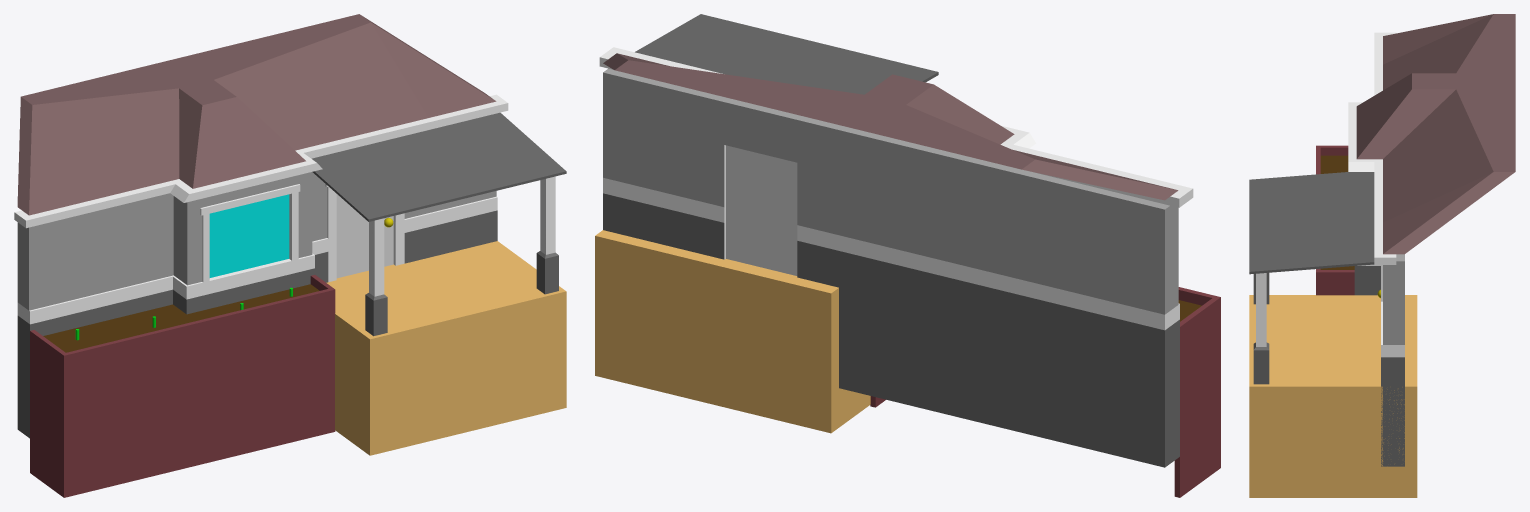
File: houseWIP6.fbx
3 views of the same model, side by side, from view 1: azimuth 30°, elevation 25°; view 2: azimuth 150°, elevation 25°; view 3: azimuth 270°, elevation 25° (orthographic). The views are drawn at different scales.
Parts seen in each view (by area): view 1: Cube, Cube.002, Cube.007, Cube.003, Cube.008, Cube.009, Cube.001, Cube.004, Cube.005, Cube.006; view 2: Cube, Cube.002, Cube.003, Cube.001, Cube.008; view 3: Cube, Cube.002, Cube.003, Cube.005, Cube.006, Cube.009, Cube.008.
Part boxes in pixels (x1,y1,x2,y2): Cube: [14, 14, 508, 438]; Cube.002: [326, 241, 566, 455]; Cube.007: [66, 289, 330, 496]; Cube.003: [312, 112, 566, 221]; Cube.008: [30, 330, 68, 497]; Cube.009: [43, 284, 319, 352]; Cube.001: [336, 194, 393, 278]; Cube.004: [365, 218, 387, 336]; Cube.005: [536, 176, 558, 294]; Cube.006: [310, 275, 335, 432]; Cube: [599, 47, 1193, 467]; Cube.002: [595, 230, 870, 433]; Cube.003: [635, 14, 938, 94]; Cube.001: [726, 145, 797, 275]; Cube.008: [1174, 296, 1220, 497]; Cube: [1348, 14, 1515, 466]; Cube.002: [1249, 295, 1417, 497]; Cube.003: [1249, 172, 1374, 274]; Cube.005: [1253, 273, 1269, 384]; Cube.006: [1316, 270, 1354, 295]; Cube.009: [1320, 155, 1354, 269]; Cube.008: [1316, 145, 1348, 155].
Bounding box in the file's own units: 7434 × 4565 × 3724.
